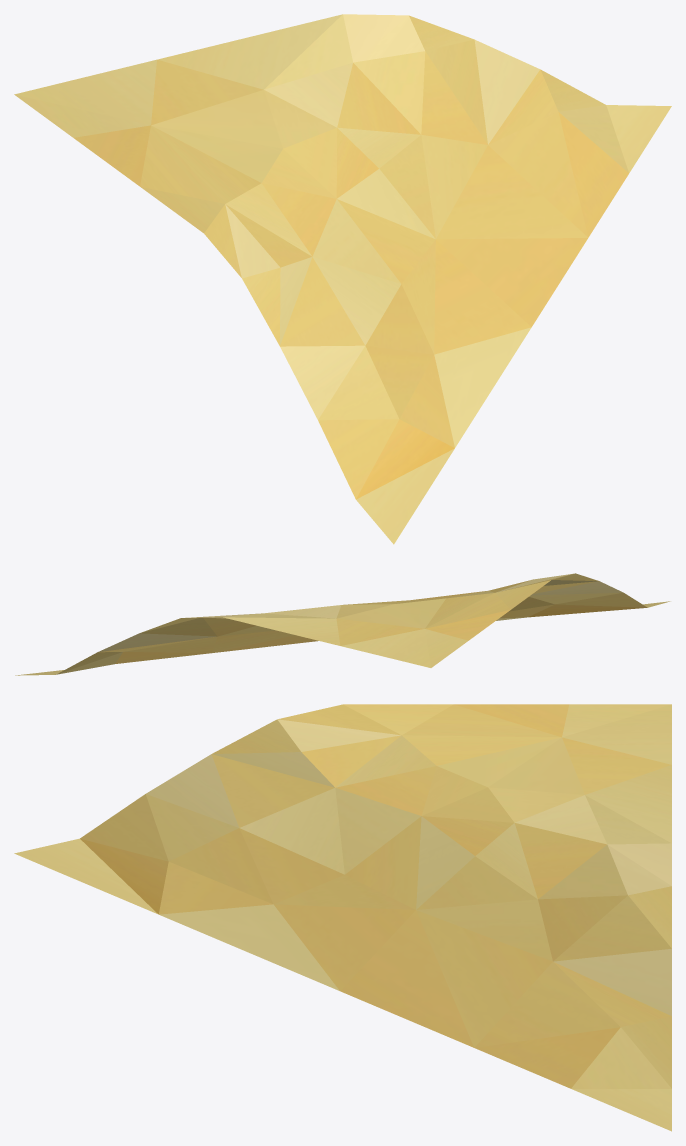
File: GL-Terrain-part-11-LOD3.fbx
The picture shows the model from 3 angles, top to bottom: view 1: azimuth 30°, elevation 25°; view 2: azimuth 150°, elevation 25°; view 3: azimuth 270°, elevation 25°; orthographic projection. The views are drawn at different scales.
Parts seen in each view (by area): view 1: GL_Terrain_part_11; view 2: GL_Terrain_part_11; view 3: GL_Terrain_part_11.
Part boxes in pixels (bbox=[...]): GL_Terrain_part_11: bbox=[14, 14, 671, 544]; GL_Terrain_part_11: bbox=[15, 573, 670, 675]; GL_Terrain_part_11: bbox=[14, 704, 671, 1131].
Size of the model in its own units: 12 by 3 by 12.
